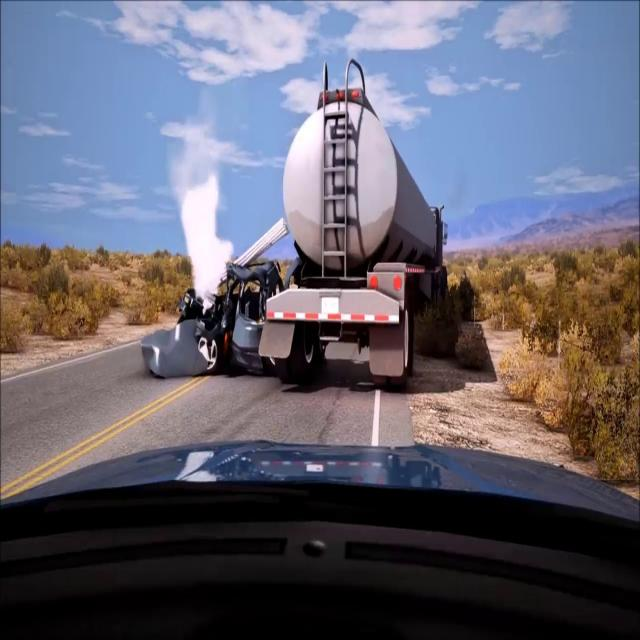accident: (139, 56, 453, 389)
